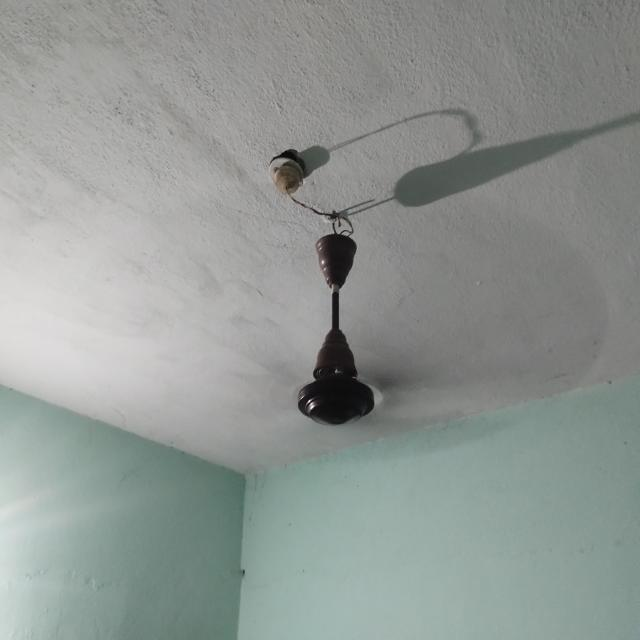fan_on: (222, 199, 612, 466)
